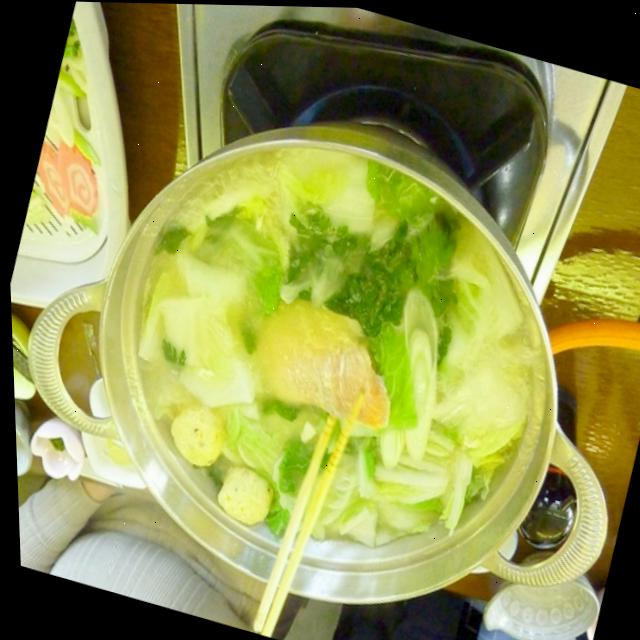汤锅炖物: (1, 30, 640, 640)
